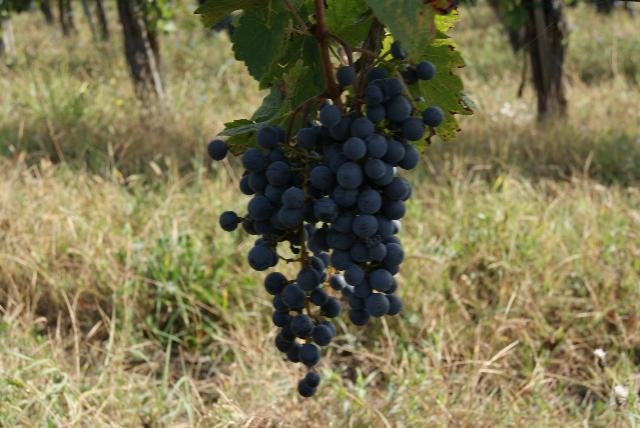grapes: (311, 44, 445, 325), (240, 126, 330, 368)
